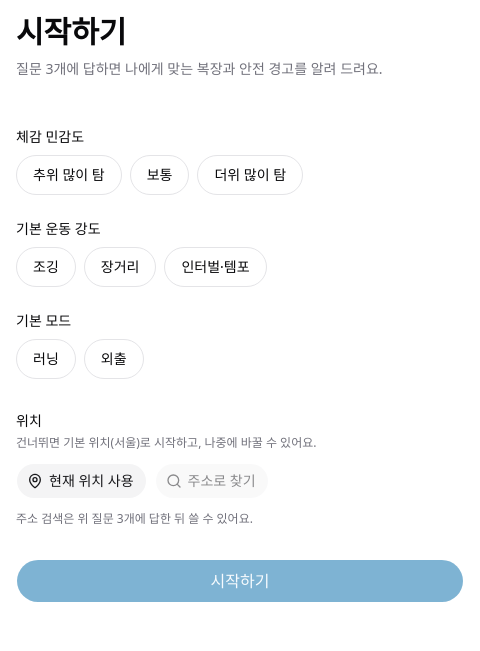
Test: OnboardingScreen › '현재 위치 사용'을 누르면 위치를 확인해 저장하고 지역명을 보여 준다
Click the button "현재 위치 사용": click(81, 480) [16,462,147,498]
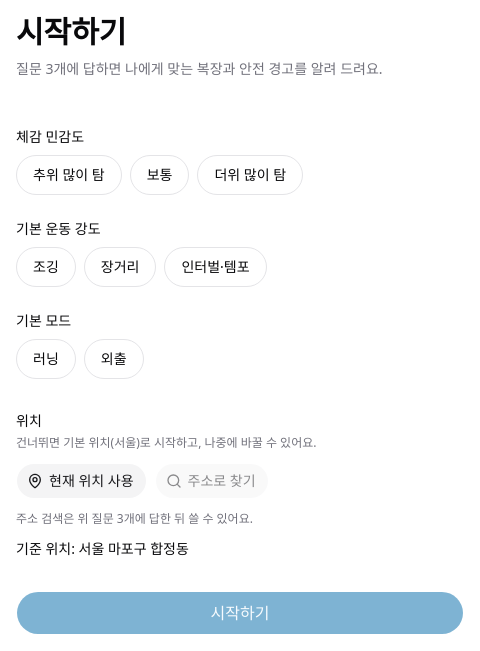
Expected: the text "서울 마포구 합정동" is shown, [79,538,189,558]
